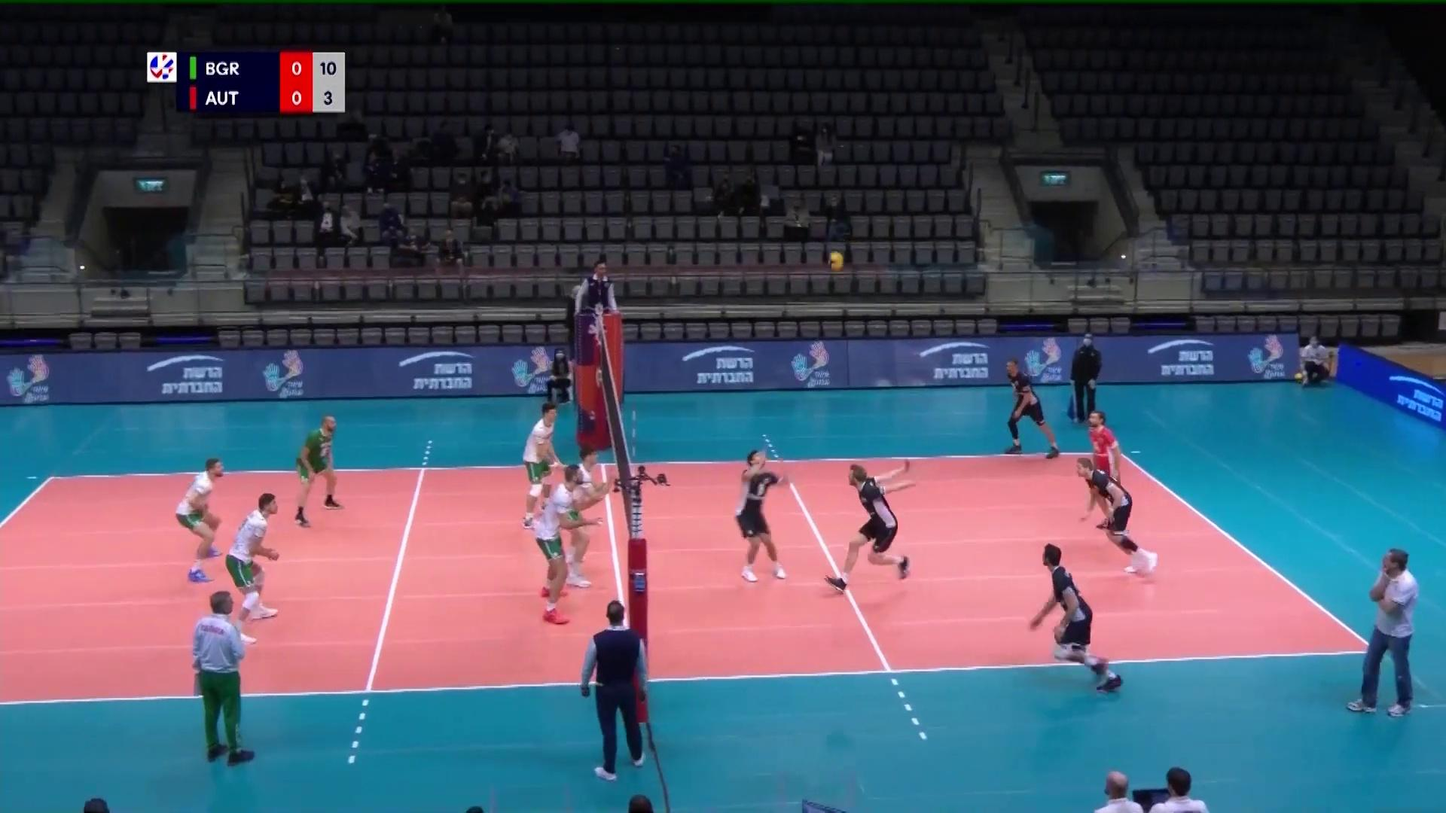ball: (828, 250, 845, 271)
